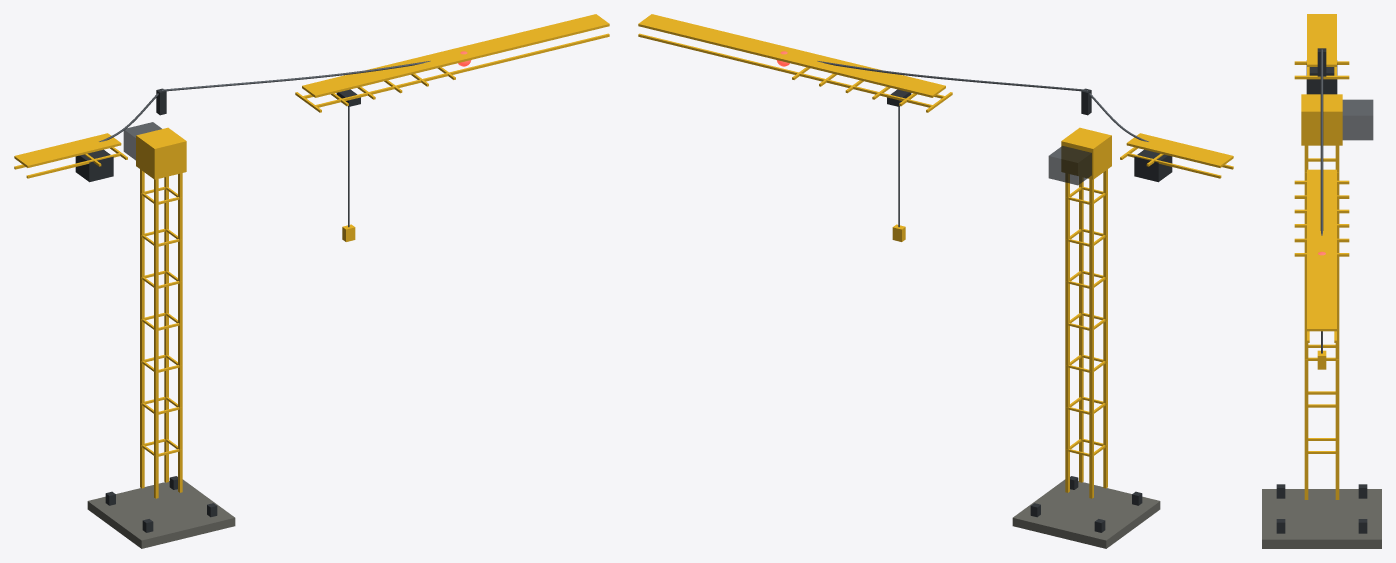
Rendered from crane-construction.glb.
The picture shows the model from 3 angles, left to right: view 1: azimuth 30°, elevation 25°; view 2: azimuth 150°, elevation 25°; view 3: azimuth 270°, elevation 25°; orthographic projection. The views are drawn at different scales.
Visible parts, largest first — view 1: crane-construction; view 2: crane-construction; view 3: crane-construction.
Part boxes in pixels (x1=…): crane-construction: x1=14, y1=14, x2=609, y2=548; crane-construction: x1=638, y1=14, x2=1233, y2=548; crane-construction: x1=1262, y1=14, x2=1381, y2=548.
Size of the model in its own units: 43.5 by 30.66 by 7.
